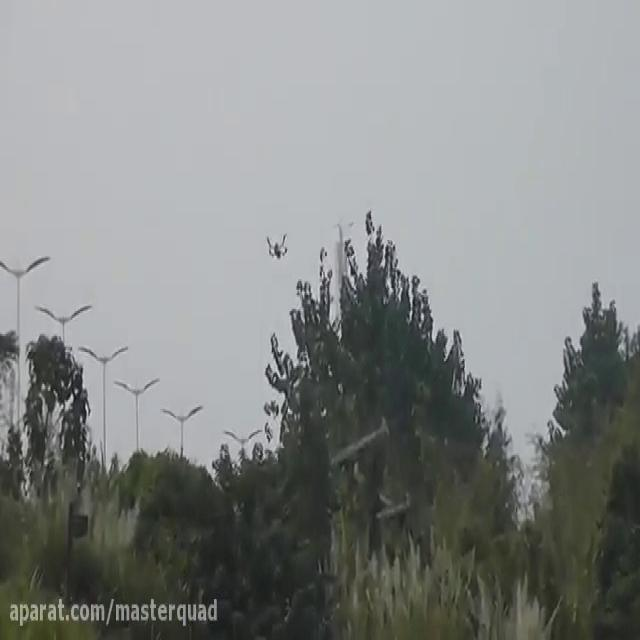drone: (263, 228, 290, 260)
